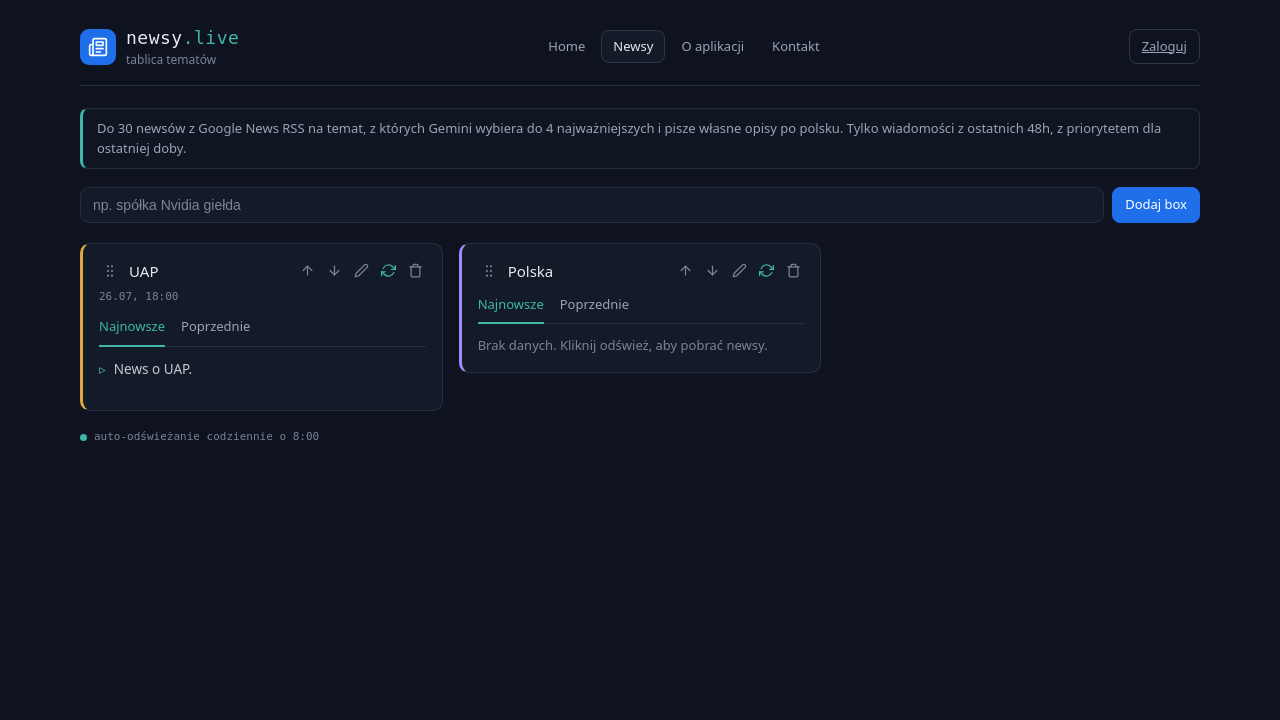
it: Dashboard › usuwa kafelek natychmiast, nie czekając na serwer
The image size is (1280, 720).
Expected: the heading "UAP" is shown, [129,260,158,282]
Click the button named "Usuń temat \"UAP\"".
click(415, 270)  # box [405,260,426,281]
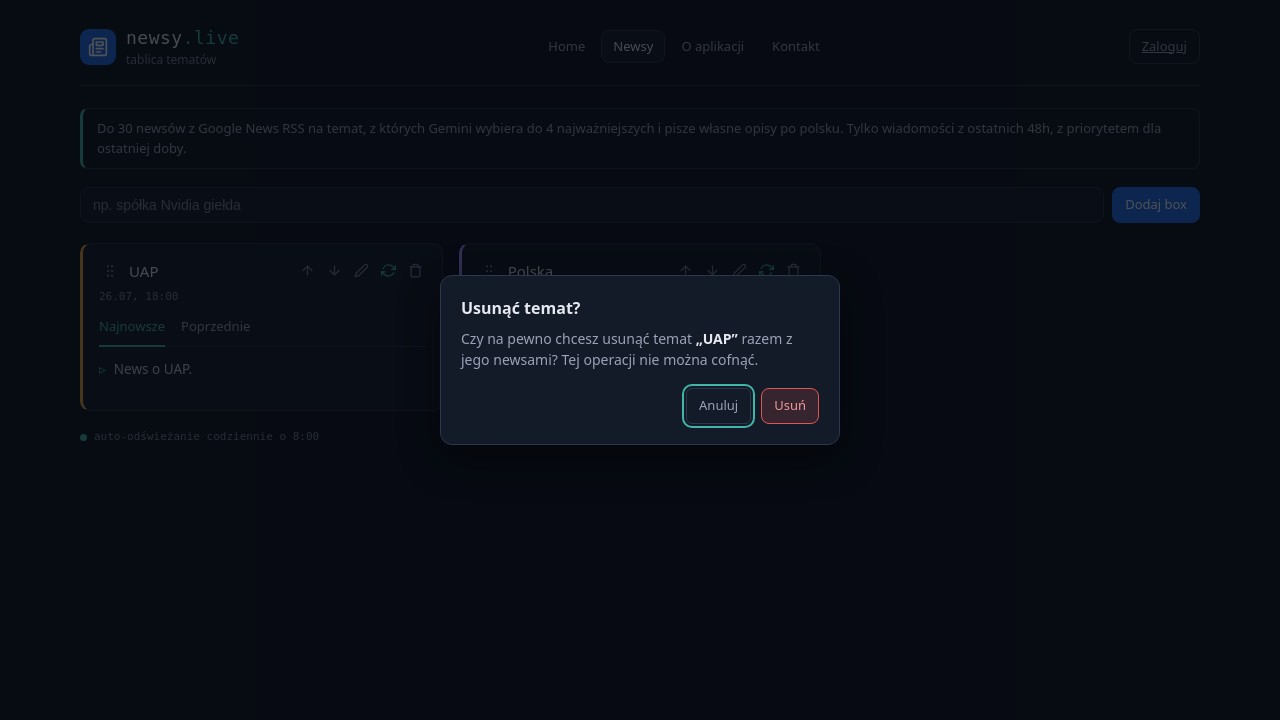
Click the button "Usuń".
click(790, 406)  # box [761,388,819,424]
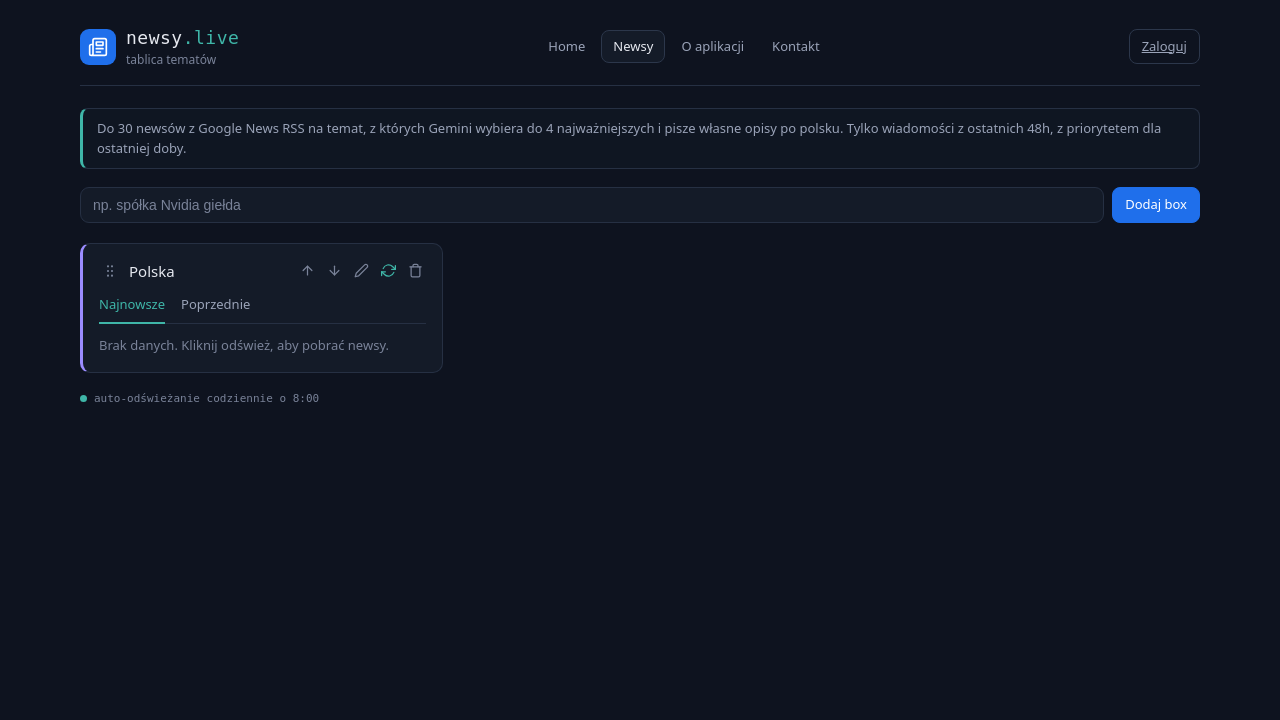
Expected: the heading "Polska" is shown, [129,260,175,282]
Expected: the heading "UAP" is gone
